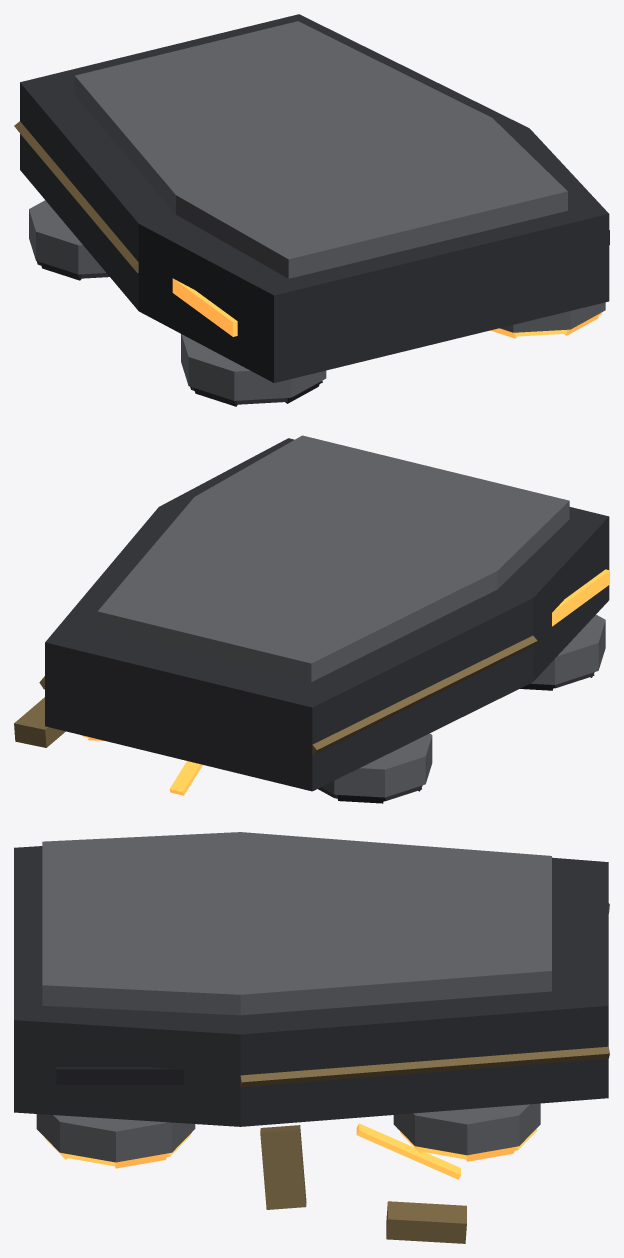
The model's file is Wreck_Aegis_Lancer.fbx.
3 renders of one model, top to bottom at view 1: azimuth 30°, elevation 25°; view 2: azimuth 150°, elevation 25°; view 3: azimuth 270°, elevation 25°, orthographic. The views are drawn at different scales.
Visible parts, largest first — view 1: Wreck_Aegis_Lancer; view 2: Wreck_Aegis_Lancer; view 3: Wreck_Aegis_Lancer.
Part boxes in pixels (x1,y1,x2,y2): Wreck_Aegis_Lancer: [14, 14, 609, 406]; Wreck_Aegis_Lancer: [14, 435, 609, 803]; Wreck_Aegis_Lancer: [14, 832, 609, 1243].
Bounding box in the file's own units: 0.9546 × 0.4543 × 1.05.
